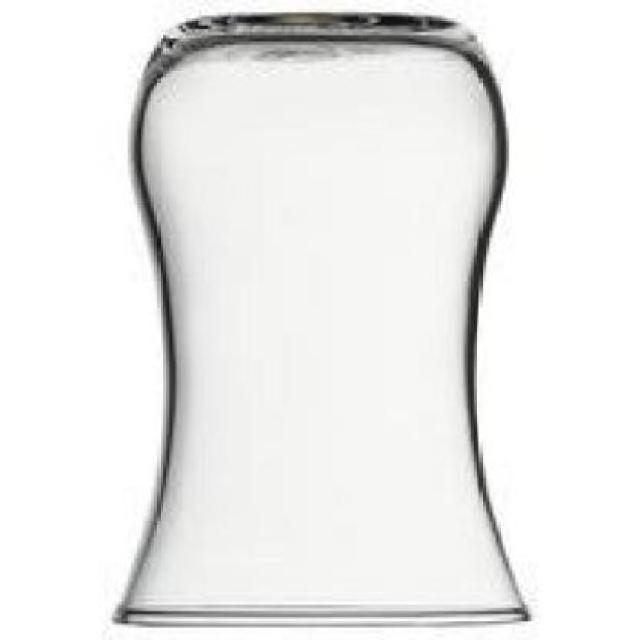glass: (118, 18, 534, 631)
